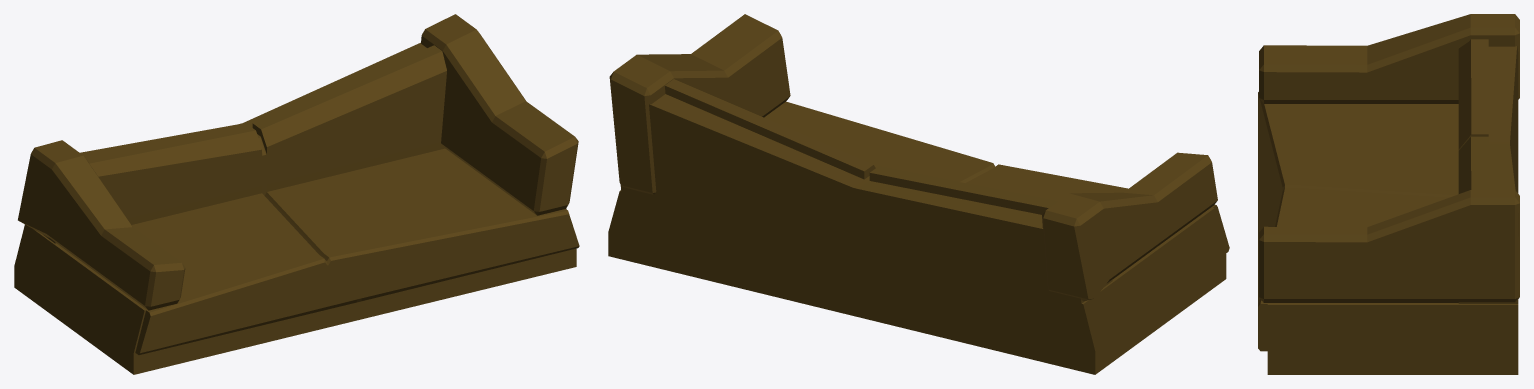
File: SM_couch.fbx
The picture shows the model from 3 angles, left to right: view 1: azimuth 30°, elevation 25°; view 2: azimuth 150°, elevation 25°; view 3: azimuth 270°, elevation 25°; orthographic projection. The views are drawn at different scales.
Parts seen in each view (by area): view 1: Sofa; view 2: Sofa; view 3: Sofa.
Part boxes in pixels (<box>): Sofa: <box>14,14,579,374</box>; Sofa: <box>608,14,1229,374</box>; Sofa: <box>1258,14,1519,374</box>.
Bounding box in the file's own units: 2.99 × 1.08 × 1.46.
